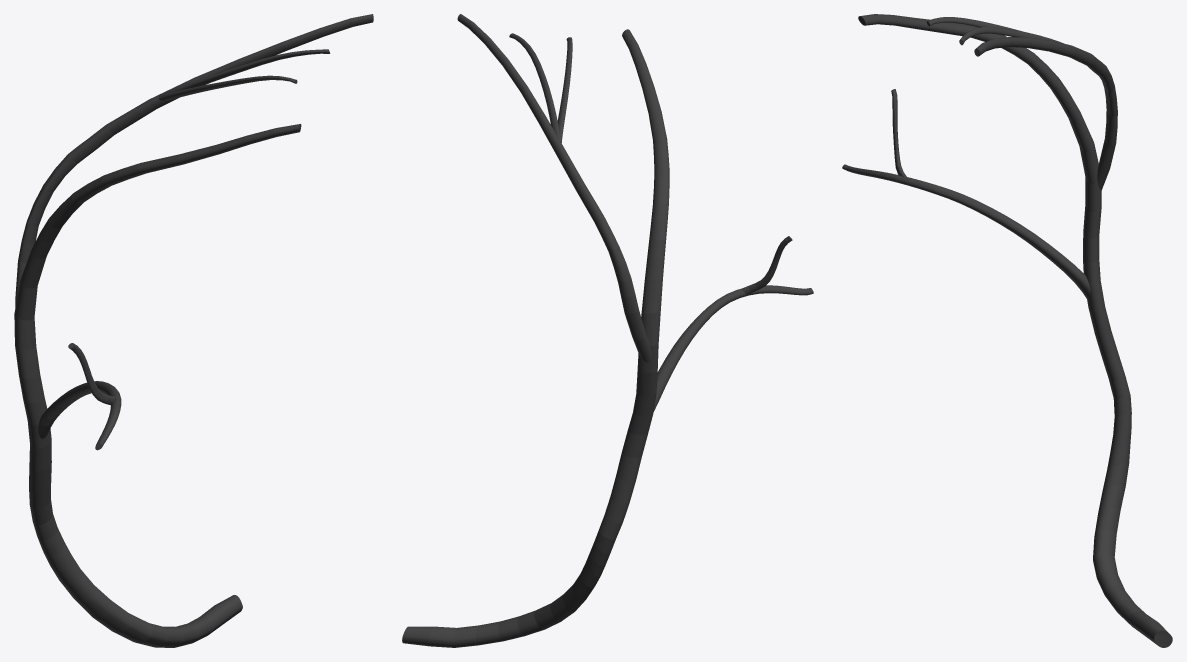
File: N_5_trigeminus_maxillary_zygomatic_zygomaticotemporal.glb
3 renders of one model, left to right at view 1: azimuth 30°, elevation 25°; view 2: azimuth 150°, elevation 25°; view 3: azimuth 270°, elevation 25°, orthographic. The views are drawn at different scales.
Parts seen in each view (by area): view 1: N_5_trigeminus_maxillary_zygomatic_zygomaticotemporal; view 2: N_5_trigeminus_maxillary_zygomatic_zygomaticotemporal; view 3: N_5_trigeminus_maxillary_zygomatic_zygomaticotemporal.
Part boxes in pixels (x1,y1,x2,y2): N_5_trigeminus_maxillary_zygomatic_zygomaticotemporal: (14, 14, 373, 647); N_5_trigeminus_maxillary_zygomatic_zygomaticotemporal: (402, 14, 813, 647); N_5_trigeminus_maxillary_zygomatic_zygomaticotemporal: (842, 14, 1172, 647).
Bounding box in the file's own units: 0.0155 × 0.0281 × 0.0136.
1 material, 1 textured.
